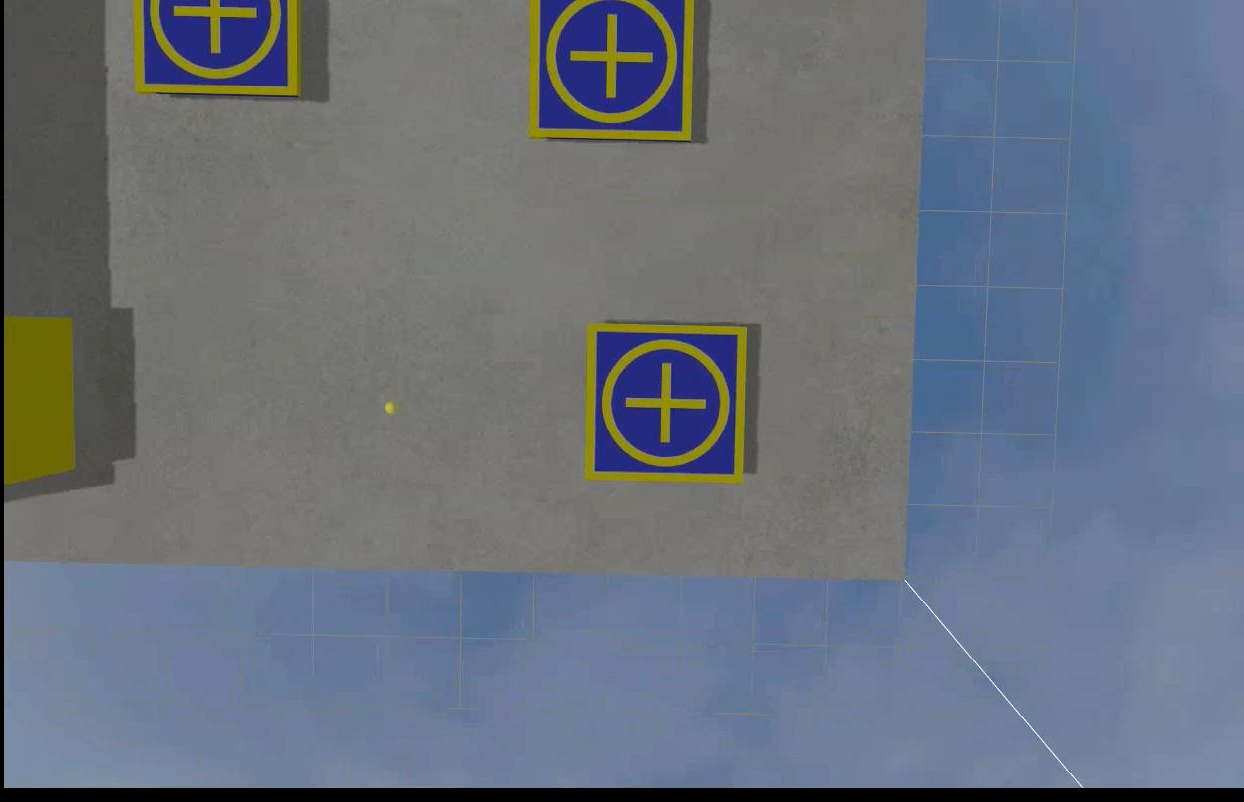small_base: (580, 324, 746, 486), (525, 1, 694, 144), (129, 1, 303, 96)
